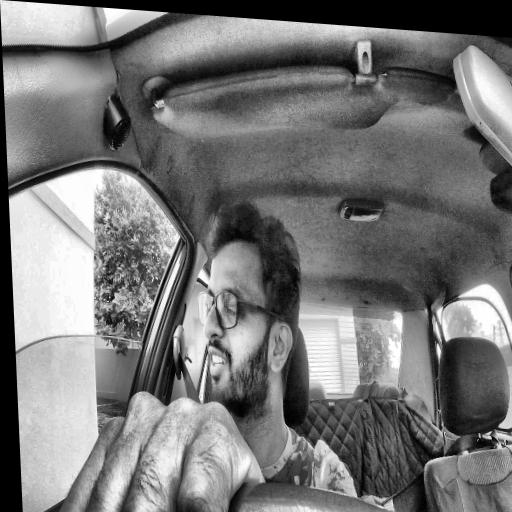drowsy: (193, 201, 309, 420)
